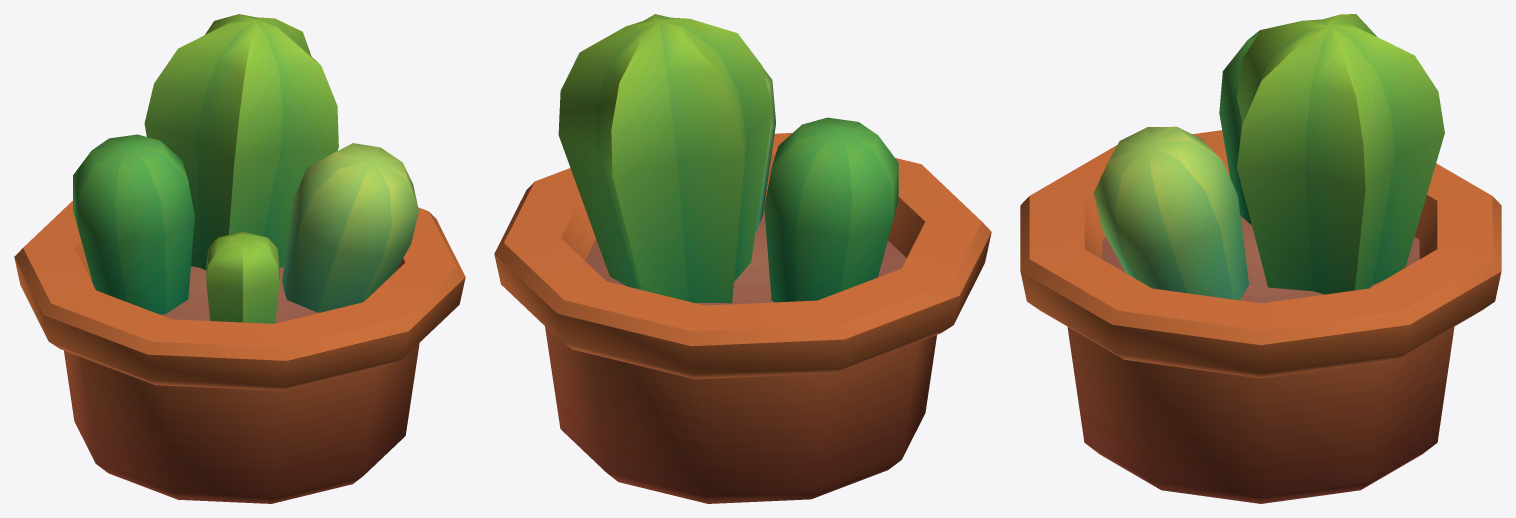
The model's file is cactus_medium_A.glb.
3 views of the same model, side by side, from view 1: azimuth 30°, elevation 25°; view 2: azimuth 150°, elevation 25°; view 3: azimuth 270°, elevation 25° (orthographic). The views are drawn at different scales.
Visible parts, largest first — view 1: cactus_medium_A; view 2: cactus_medium_A; view 3: cactus_medium_A.
Boxes of the visible parts, <box> form: cactus_medium_A: <box>14,14,465,503</box>; cactus_medium_A: <box>494,14,991,503</box>; cactus_medium_A: <box>1020,14,1501,503</box>.
Size of the model in its own units: 0.8799 by 0.8273 by 0.8368.
1 material, 1 textured.
